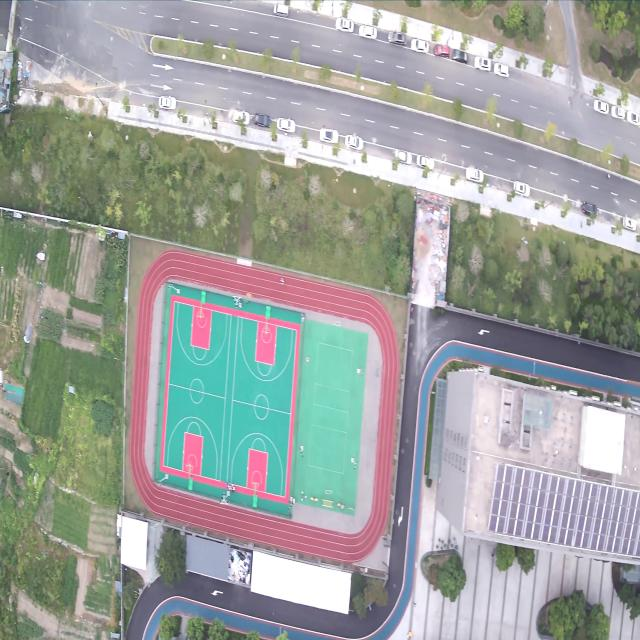UAV: (384, 284, 392, 296)
